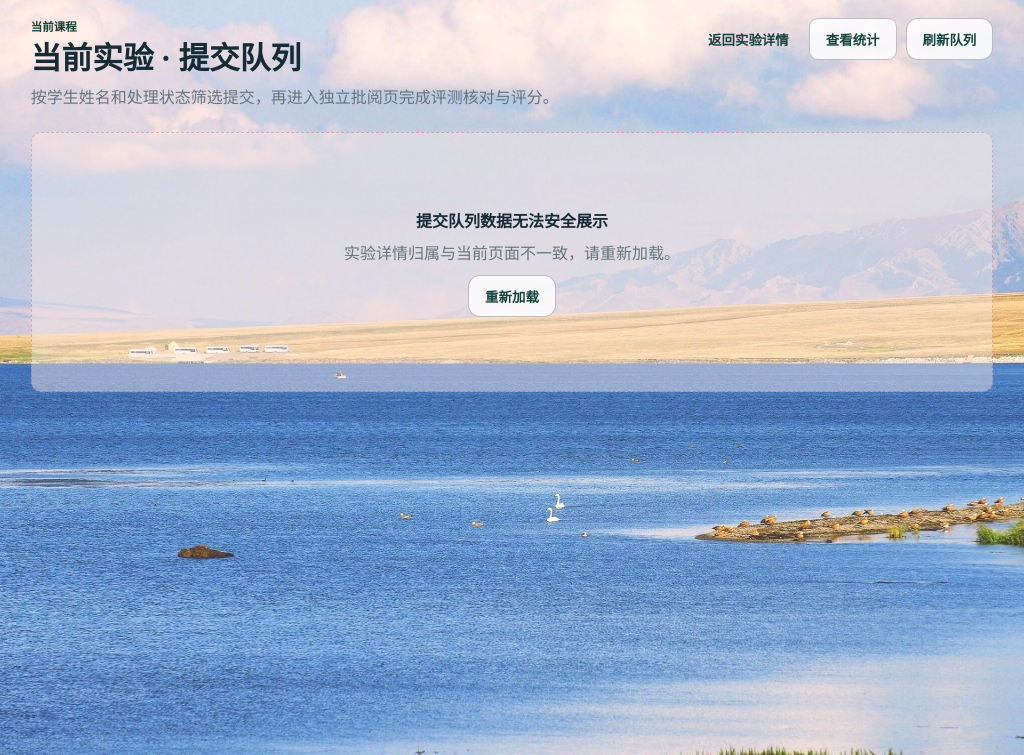
Test case: LabSubmissionWorkspaceView › retries every queue dependency after a fatal ownership mismatch
Check: the message with test id "workspace-fatal-error" shows "归属与当前页面不一致", box x1=344 y1=243 x2=680 y2=263
Click the button "重新加载" at (512, 296), box x1=468 y1=275 x2=556 y2=317
(page scrolled)
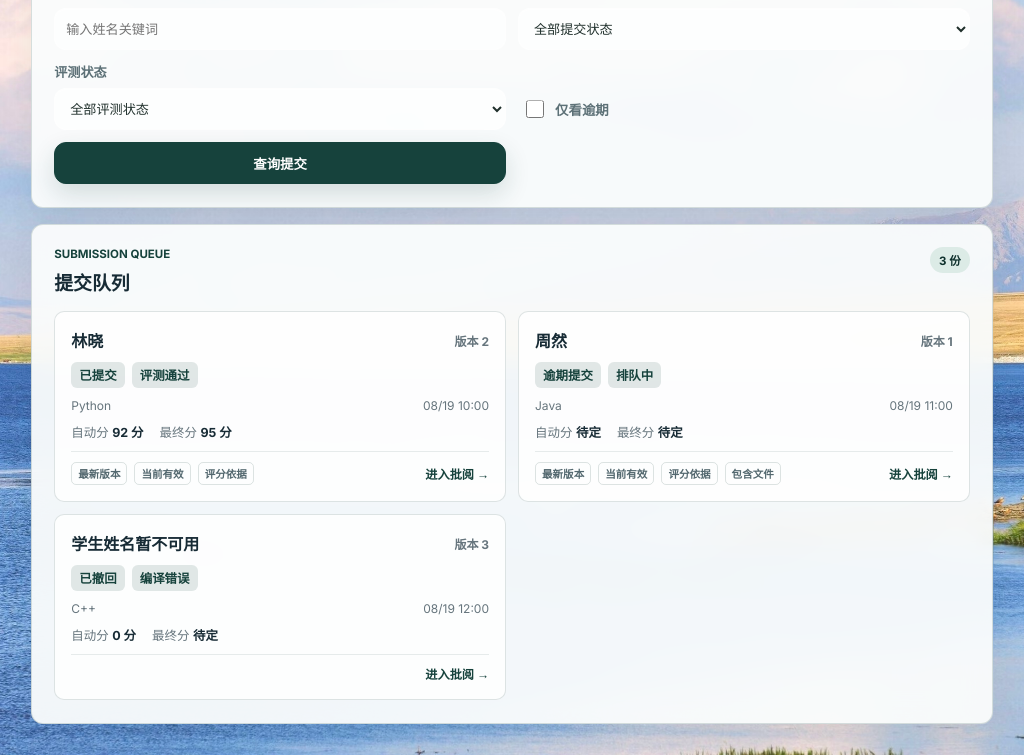
Check: the list item that starts with "版本 2" shows "林晓", box x1=71 y1=331 x2=103 y2=351
